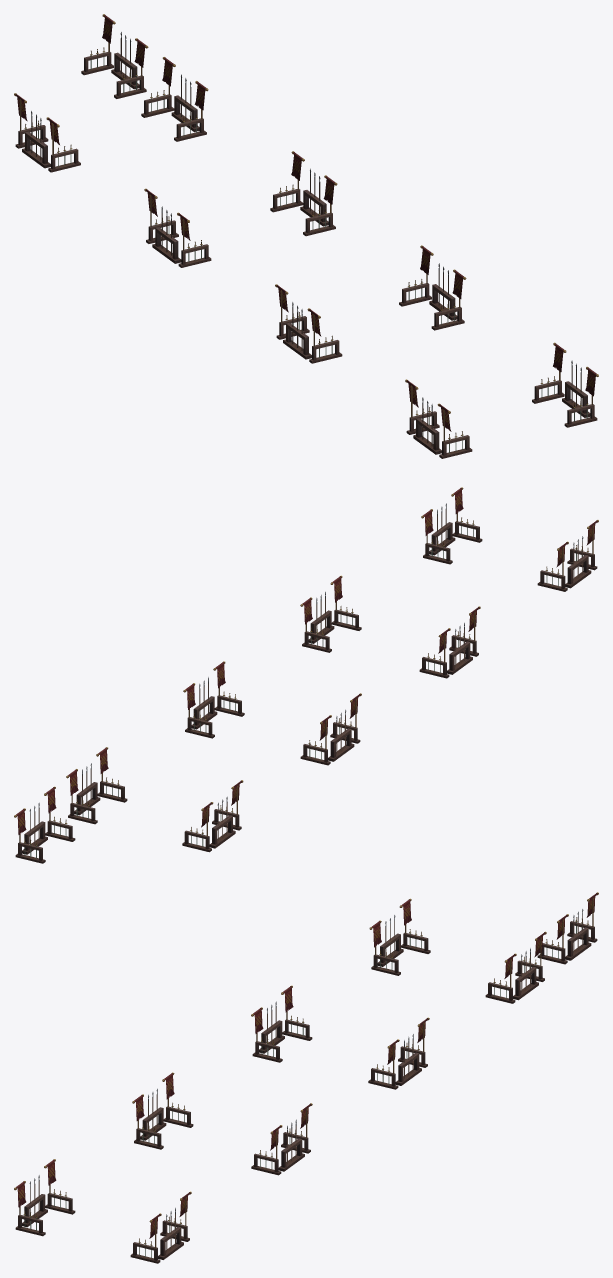
The model's file is wujian01.fbx.
3 views of the same model, one above another, from view 1: azimuth 30°, elevation 25°; view 2: azimuth 150°, elevation 25°; view 3: azimuth 330°, elevation 25° (orthographic). The views are drawn at different scales.
Visible parts, largest first — view 1: wujian01; view 2: wujian01; view 3: wujian01.
Boxes of the visible parts, x1,y1,x2,y2 form: wujian01: (14,14,598,458); wujian01: (14,487,598,863); wujian01: (14,892,598,1263).
Bounding box in the file's own units: 1445 × 448 × 7948.
1 material, 1 textured.
